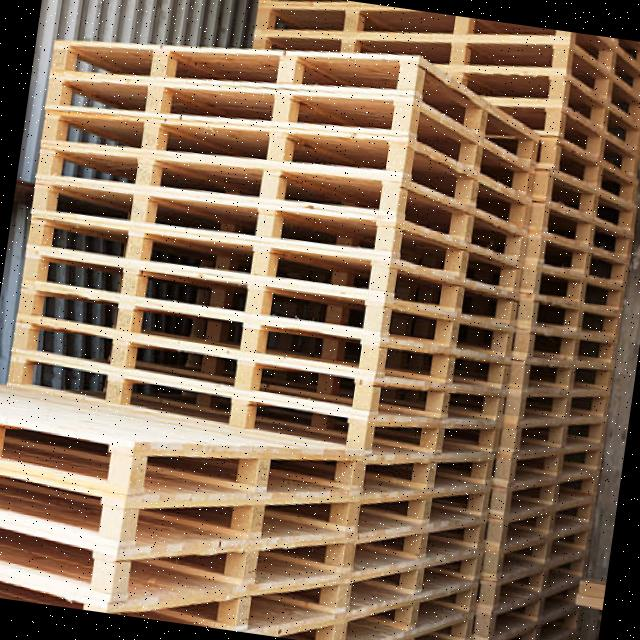Wooden-Pallets: (45, 35, 549, 179), (32, 101, 537, 242), (13, 203, 522, 336), (3, 277, 511, 399), (553, 70, 640, 165), (493, 514, 593, 592), (532, 260, 631, 335), (504, 410, 612, 468)
